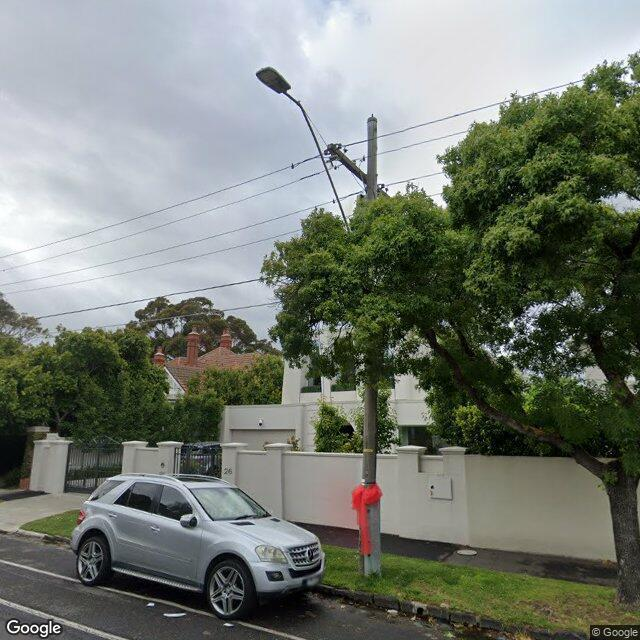crossarm: (328, 143, 390, 199)
streetlight: (255, 66, 351, 235)
timber-pole: (358, 117, 382, 578)
